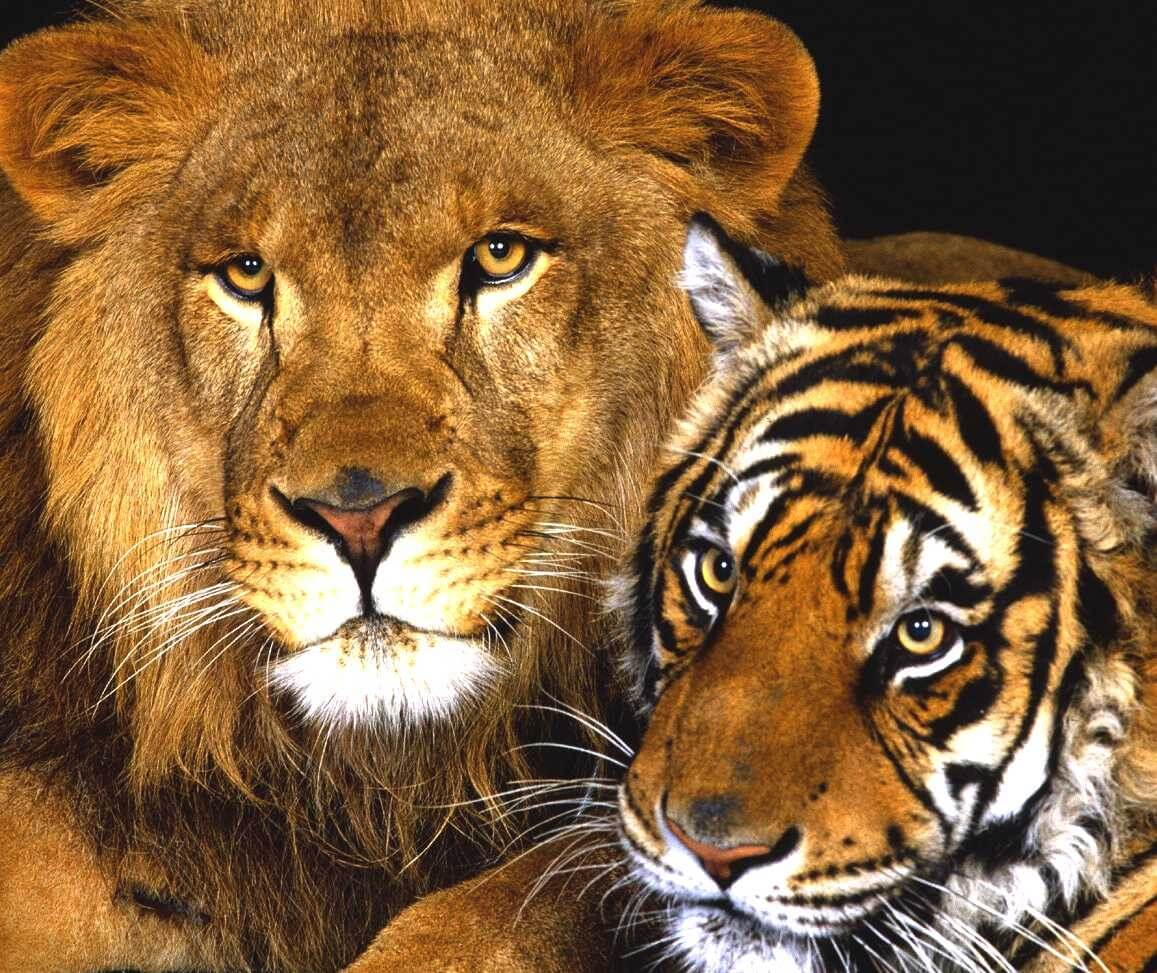lion: (1, 1, 780, 909)
tiger: (594, 209, 1157, 954)
